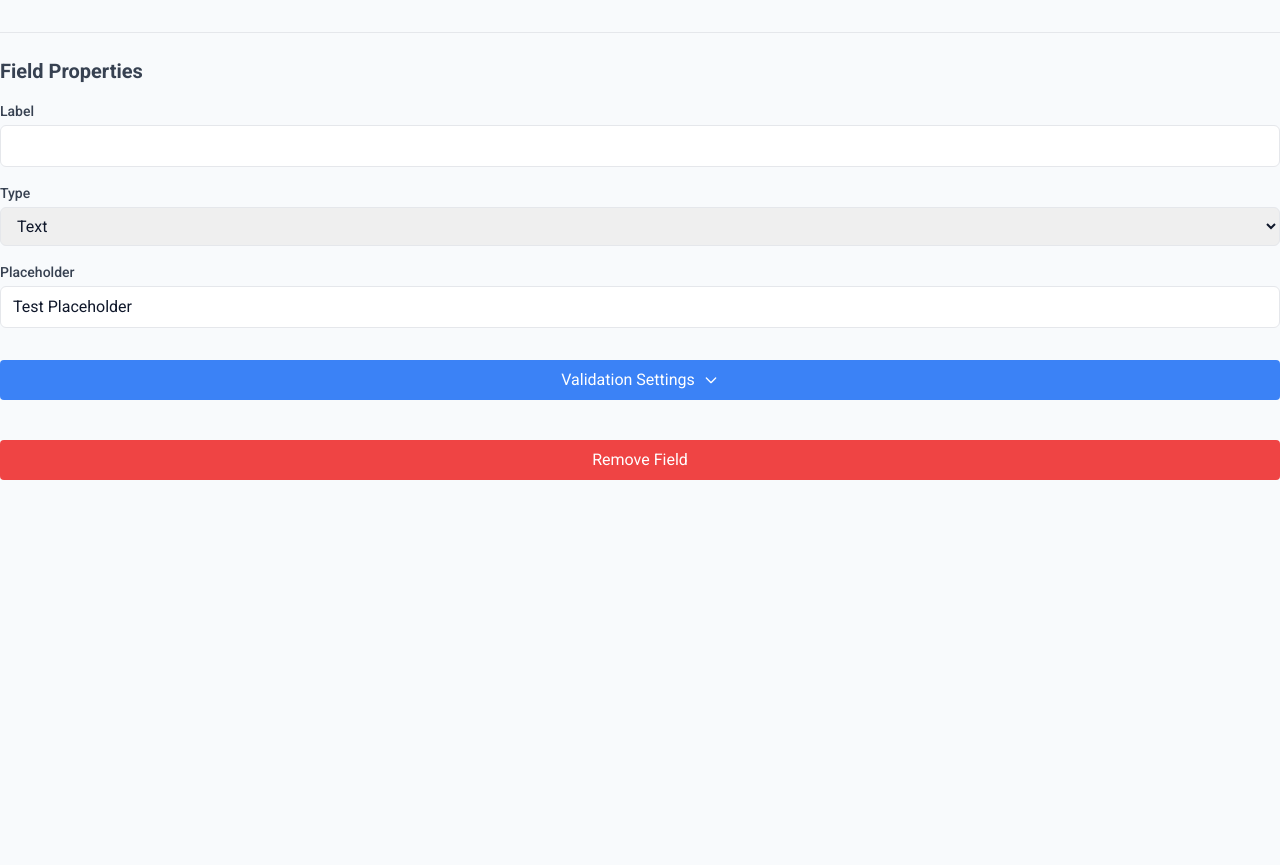
Test: FormProperties Component › shows validation settings when button is clicked
Expected: the text "Validation Rules" is not shown
Click the button "Validation Settings" at (640, 380), box [0,360,1279,400]
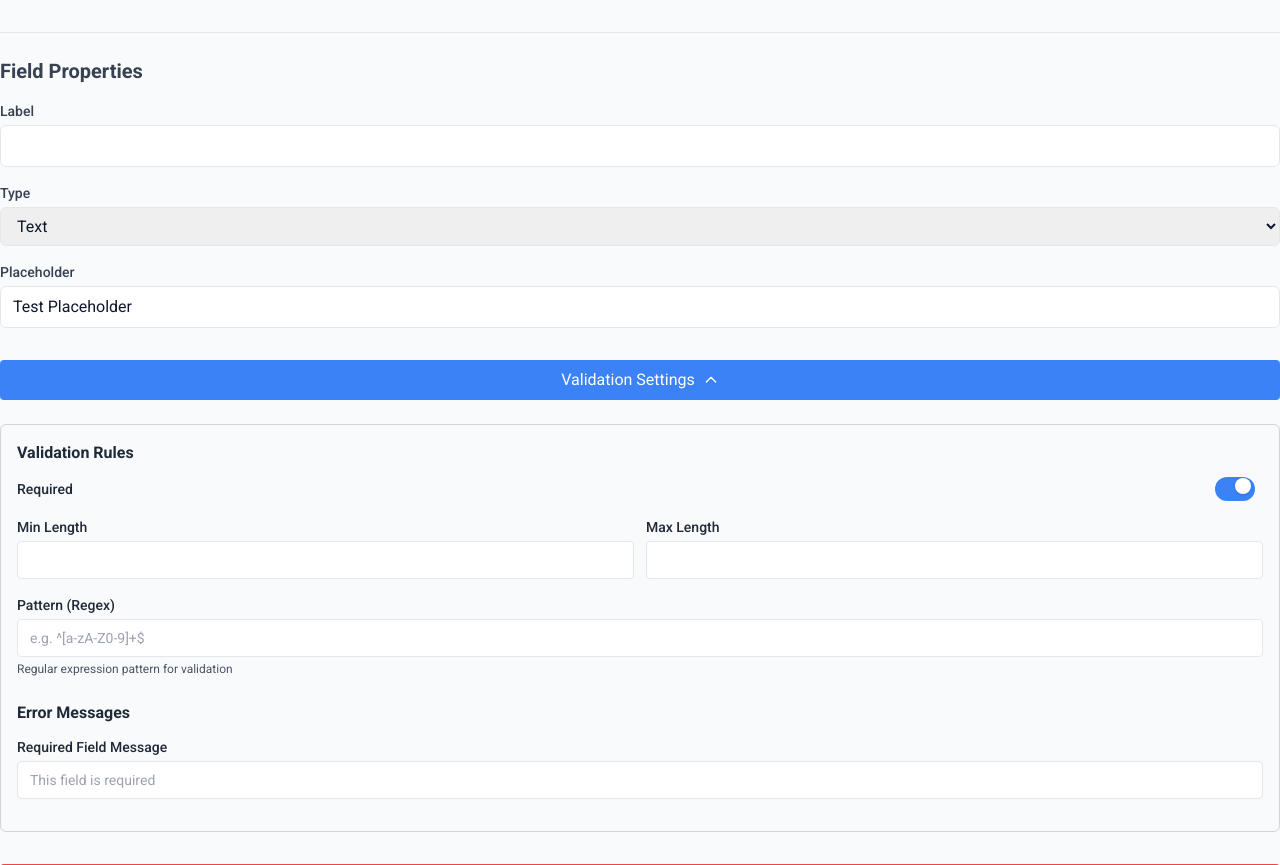
Expected: the heading "Validation Rules" is shown, [17,443,134,462]
